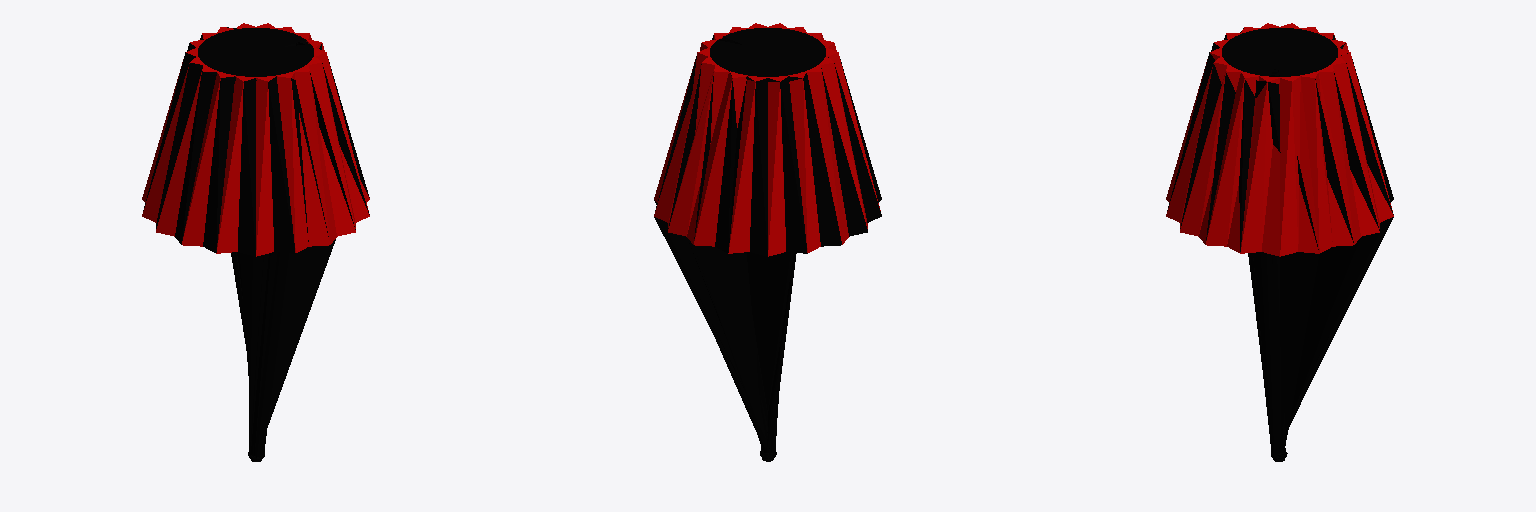
File: Lamp.obj
3 renders of one model, left to right at view 1: azimuth 30°, elevation 25°; view 2: azimuth 150°, elevation 25°; view 3: azimuth 270°, elevation 25°, orthographic.
Visible parts, largest first — view 1: Cylinder001, Cylinder002; view 2: Cylinder001, Cylinder002; view 3: Cylinder002, Cylinder001.
Boxes of the visible parts, box(x1,y1,x2,y2) form: Cylinder001: box(143, 27, 369, 461); Cylinder002: box(142, 23, 369, 256); Cylinder001: box(654, 28, 881, 461); Cylinder002: box(654, 23, 880, 256); Cylinder002: box(1166, 23, 1393, 256); Cylinder001: box(1167, 28, 1393, 461).
Bounding box in the file's own units: 44099 × 85501 × 43429.